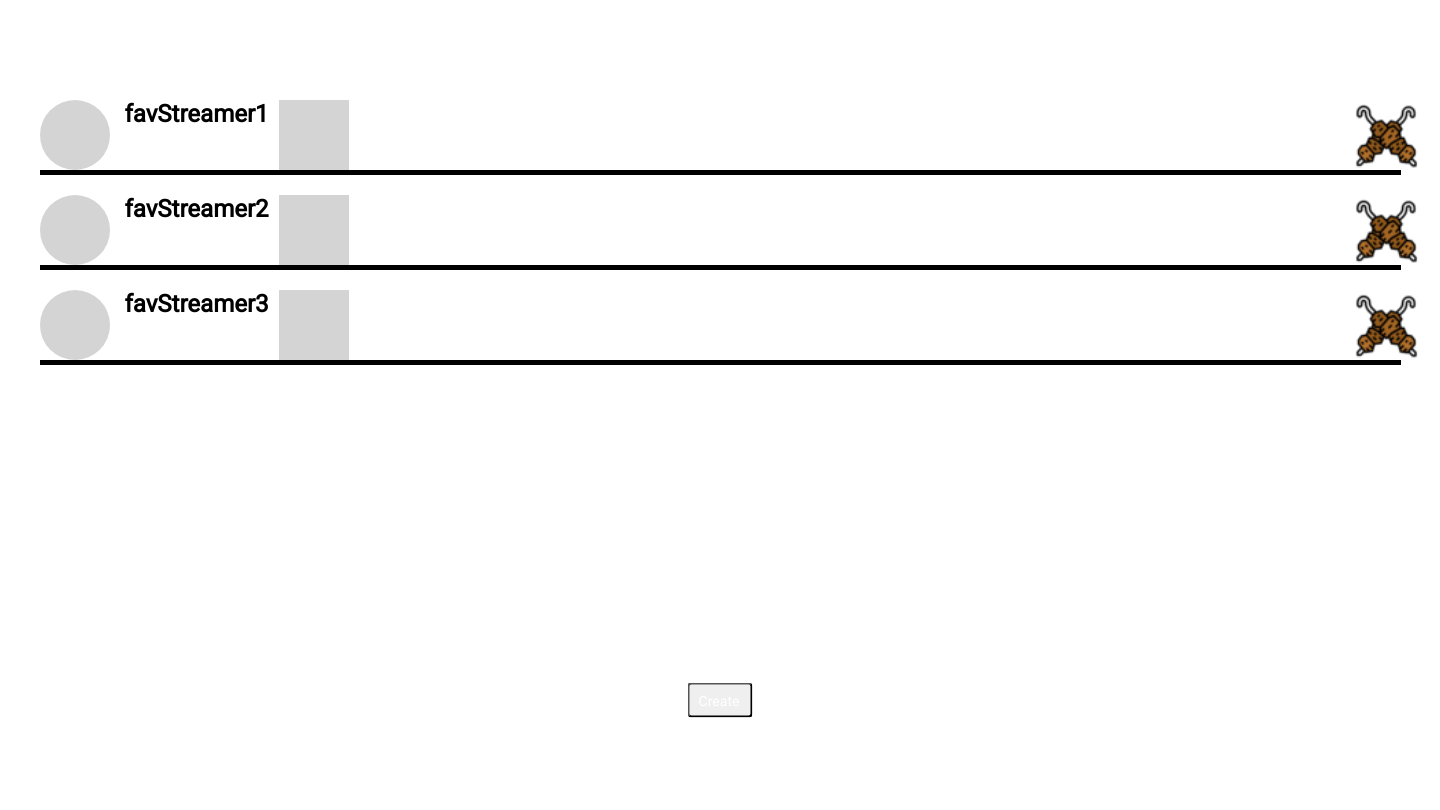
Test: Given the Favorites Page › When the delete button is clicked on a Favortire Card › Then that card should be removed from the document
Expected: the heading "favStreamer1" is shown, [124,100,278,135]
Expected: the heading "favStreamer2" is shown, [124,195,278,230]
What coordinates should you click on to do the following:
click the button titled "Delete from favorites" in the row of "favStreamer1"
I would click on:
 (1376, 135)
Its box is [1350,100,1400,170].
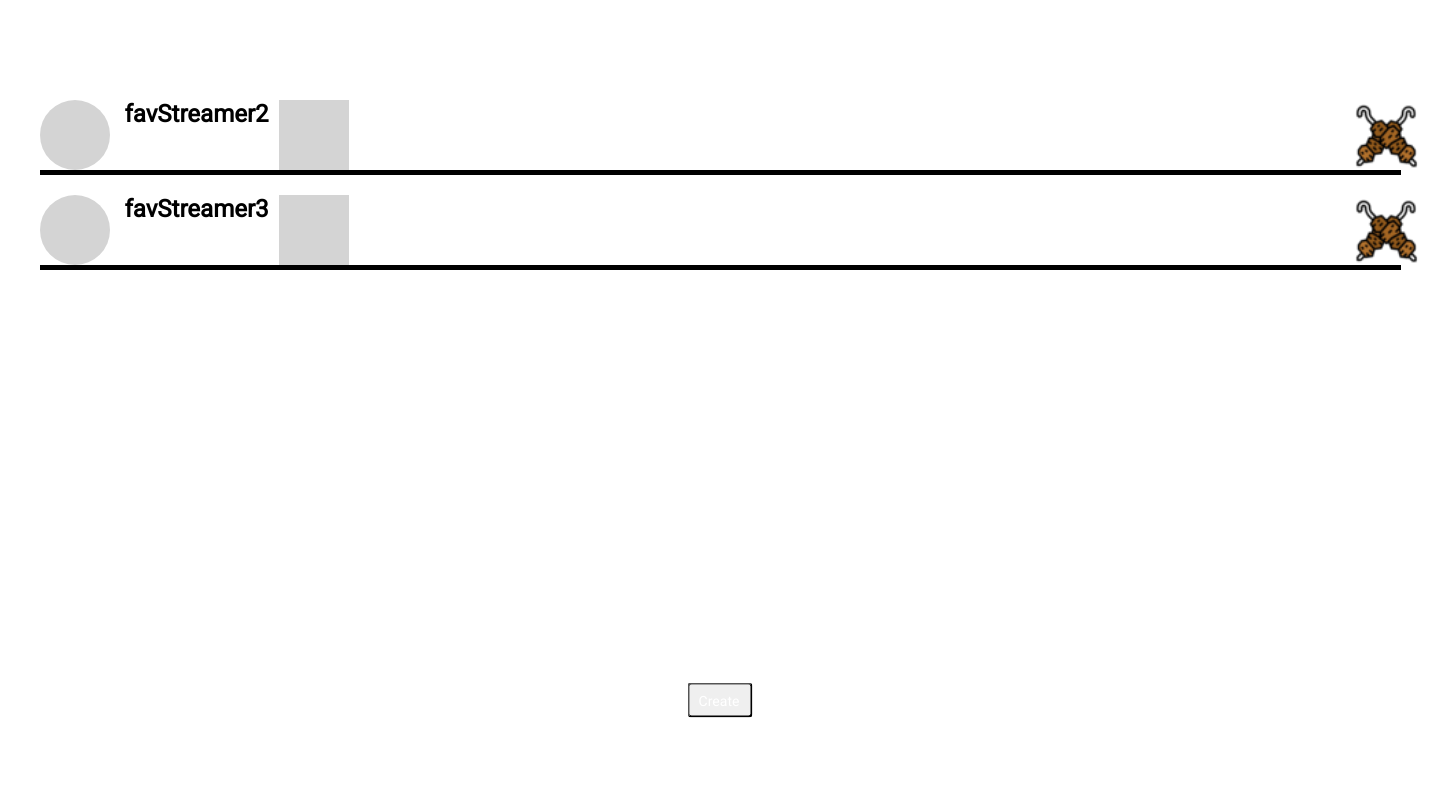
Expected: the heading "favStreamer2" is shown, [124,100,278,135]
Now the heading "favStreamer1" is gone
